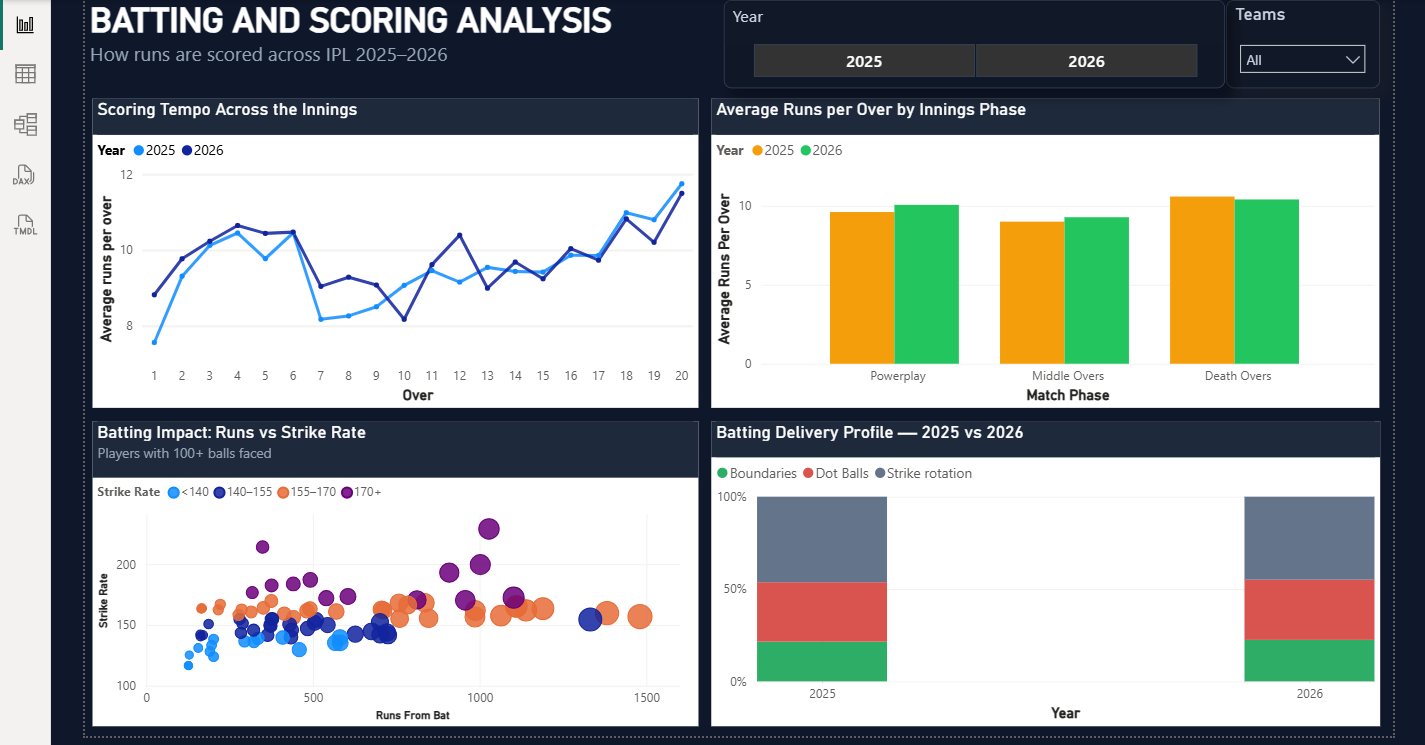

This screenshot's page, from the dashboard's own definition file:
{"tool":"powerbi","page":{"name":"Page 2","canvas":[1280,720],"ordinal":1},"visuals":[{"type":"textbox","title":"BATTING AND SCORING ANALYSIS","box":[0,0,593,76],"z":0},{"type":"lineChart","title":"Scoring Tempo Across the Innings","fields":{"Category":["fact_deliveries.over_number"],"Series":["dim_date.Year"],"Y":["KPI Measures.Average Runs Per Over"]},"box":[7.4,96.3,592.6,302.8],"z":1000},{"type":"clusteredColumnChart","title":"Average Runs per Over by Innings Phase","fields":{"Category":["fact_deliveries.phase_category"],"Series":["dim_date.Year"],"Y":["KPI Measures.Average Runs Per Over"]},"box":[613,96.3,653.7,302.8],"z":2000},{"type":"scatterChart","title":"Batting Impact: Runs vs Strike Rate","fields":{"Category":["dim_batters.player_name"],"Series":["dim_batters.Strike Rate Band"],"Size":["KPI Measures.Runs From Bat"],"X":["KPI Measures.Runs From Bat"],"Y":["KPI Measures.Strike Rate"]},"box":[7.4,412,592.6,298.1],"z":3000},{"type":"hundredPercentStackedColumnChart","title":"Batting Delivery Profile — 2025 vs 2026","fields":{"Category":["dim_date.Year"],"Y":["KPI Measures.Boundary %","KPI Measures.Dot Ball %","KPI Measures.Other Batting Deliveries %"]},"box":[613,412,654,298],"z":4000},{"type":"slicer","title":"Year","fields":{"Values":["dim_date.Year"]},"box":[624.9,0,490.7,86.1],"z":6000},{"type":"slicer","title":"Teams","fields":{"Values":["dim_batting_teams.Teams"]},"box":[1116.7,0,150,86.1],"z":6001}]}

Visuals, with their boxes in screenshot pixels (x1, y1, x2, y2):
"BATTING AND SCORING ANALYSIS" textbox: x1=82, y1=0, x2=687, y2=78
"Scoring Tempo Across the Innings" lineChart: x1=89, y1=98, x2=695, y2=408
"Average Runs per Over by Innings Phase" clusteredColumnChart: x1=708, y1=98, x2=1376, y2=408
"Batting Impact: Runs vs Strike Rate" scatterChart: x1=89, y1=421, x2=695, y2=725
"Batting Delivery Profile — 2025 vs 2026" hundredPercentStackedColumnChart: x1=708, y1=421, x2=1376, y2=725
"Year" slicer: x1=720, y1=0, x2=1221, y2=88
"Teams" slicer: x1=1223, y1=0, x2=1376, y2=88
